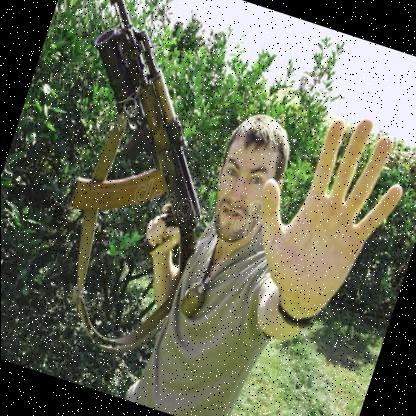rifle: (6, 0, 273, 270)
